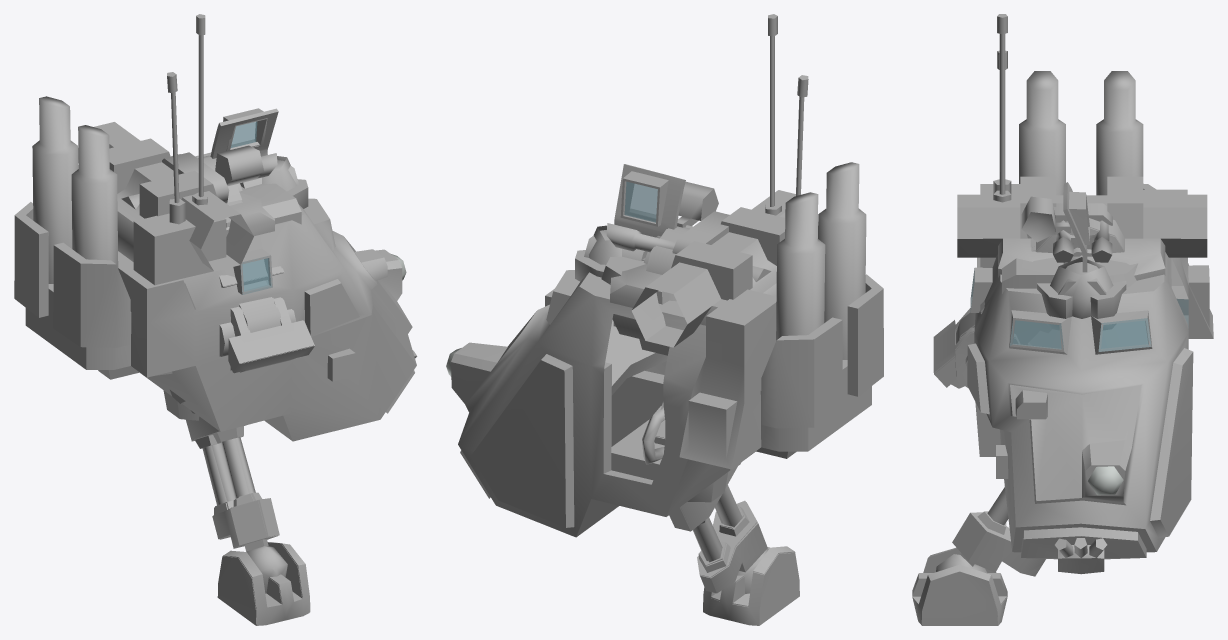
File: sentinel_flamer-0dvnk2j.glb
3 views of the same model, side by side, from view 1: azimuth 30°, elevation 25°; view 2: azimuth 150°, elevation 25°; view 3: azimuth 270°, elevation 25° (orthographic). The views are drawn at different scales.
Visible parts, largest first — view 1: turret, turret_interior, body, legr3, legl2, legl3, legl4, legr4, door, legl1, gun_rot_melta, legr2; view 2: turret, turret_interior, body, legr3, legr4, door, legl3, legl1, legl4, flamer1; view 3: turret, turret_interior, body, legl4, legl3, gun_rot_melta, door, legr2, legl2, legr1, legl1, flamer1 (+1 smaller).
Part boxes in pixels (left/top/right/bottom): turret: left=14, top=14, right=417, bottom=441; turret_interior: left=14, top=97, right=415, bottom=440; body: left=78, top=122, right=308, bottom=271; legr3: left=191, top=425, right=278, bottom=593; legl2: left=170, top=297, right=313, bottom=413; legl3: left=186, top=416, right=287, bottom=577; legl4: left=223, top=542, right=310, bottom=625; legr4: left=217, top=543, right=309, bottom=625; door: left=210, top=108, right=278, bottom=158; legl1: left=198, top=155, right=282, bottom=332; gun_rot_melta: left=226, top=183, right=301, bottom=235; legr2: left=181, top=298, right=314, bottom=413; turret: left=446, top=14, right=883, bottom=537; turret_interior: left=451, top=163, right=883, bottom=537; body: left=575, top=190, right=818, bottom=355; legr3: left=642, top=419, right=767, bottom=593; legr4: left=703, top=552, right=799, bottom=625; door: left=613, top=164, right=685, bottom=326; legl3: left=642, top=408, right=768, bottom=577; legl1: left=643, top=226, right=689, bottom=274; legl4: left=703, top=546, right=799, bottom=607; flamer1: left=584, top=230, right=771, bottom=281; turret: left=967, top=14, right=1213, bottom=574; turret_interior: left=967, top=71, right=1213, bottom=558; body: left=957, top=176, right=1207, bottom=329; legl4: left=912, top=547, right=1006, bottom=625; legl3: left=936, top=487, right=1045, bottom=573; gun_rot_melta: left=1002, top=257, right=1063, bottom=293; door: left=1063, top=182, right=1089, bottom=272; legr2: left=934, top=321, right=1029, bottom=388; legl2: left=933, top=308, right=1031, bottom=373; legr1: left=959, top=228, right=1124, bottom=344; legl1: left=956, top=218, right=1124, bottom=343; flamer1: left=1058, top=255, right=1106, bottom=294.
Size of the model in its own units: 46.98 by 70.9 by 33.56.
